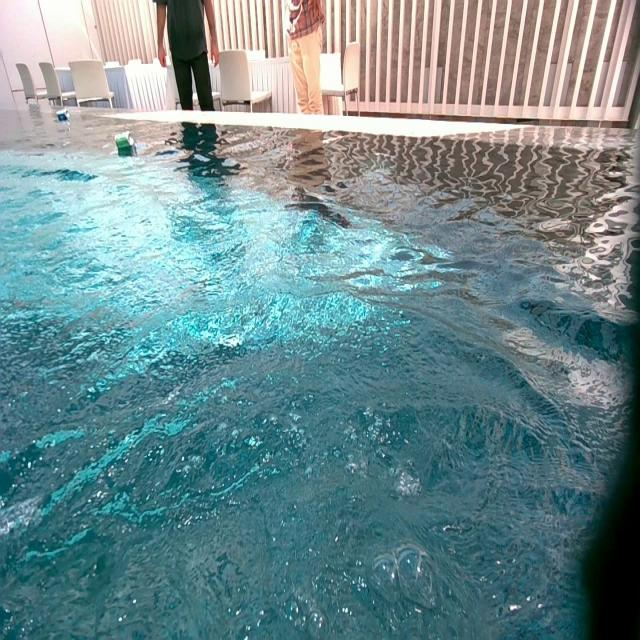Cans: (114, 133, 134, 154), (58, 109, 71, 121)
